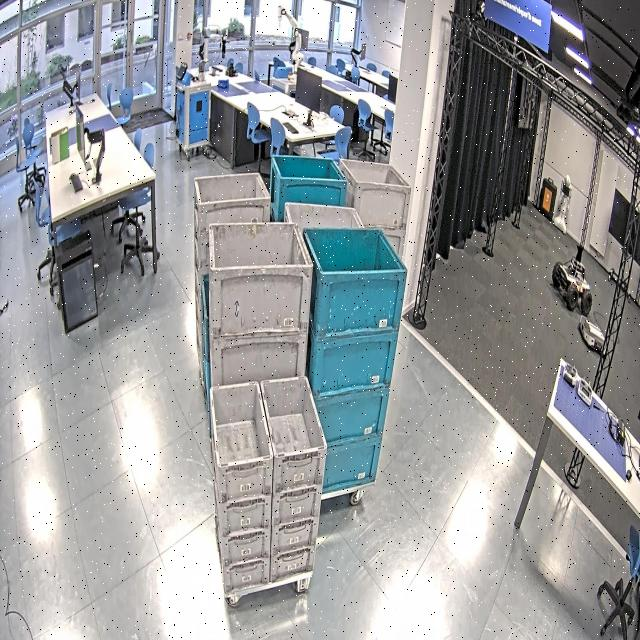Box3G: (283, 200, 372, 439), (192, 170, 272, 394)
Box4G: (207, 220, 314, 498), (331, 156, 413, 370)
Box8G: (208, 373, 328, 601)
BoxB4: (290, 228, 410, 502), (268, 152, 348, 368)
